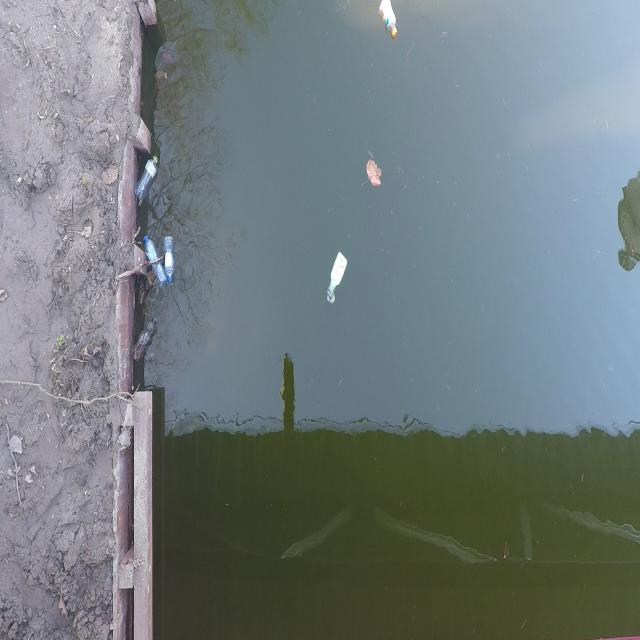Bouteille plastique: (143, 234, 166, 288), (132, 315, 156, 361), (135, 156, 158, 199), (327, 253, 345, 302), (380, 1, 397, 37), (165, 236, 173, 284)
